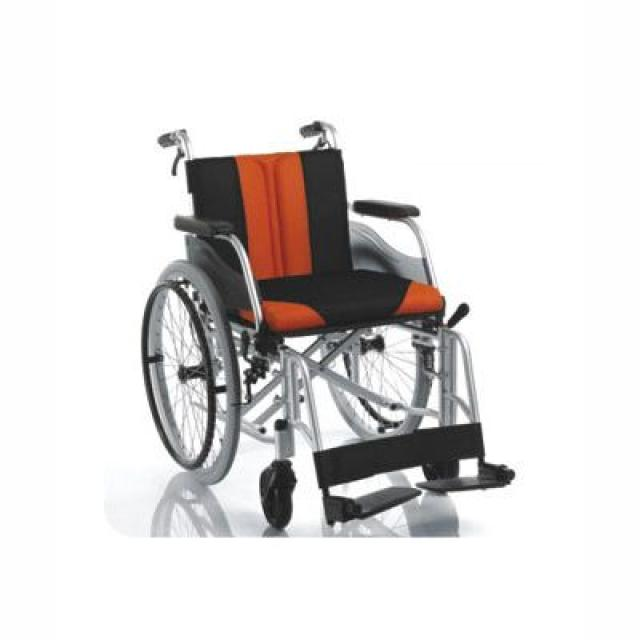wheelchairs: (121, 105, 524, 538)
